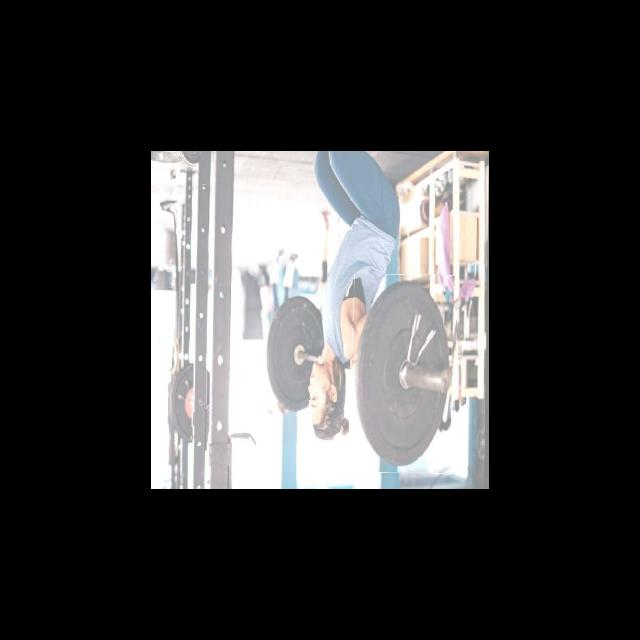barbell: (350, 274, 458, 473)
